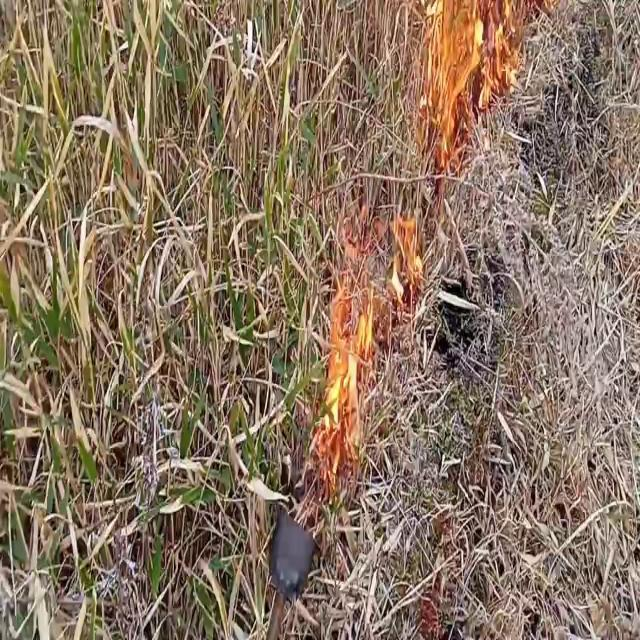Fire: (416, 1, 522, 162), (317, 244, 377, 483), (388, 194, 423, 318)
